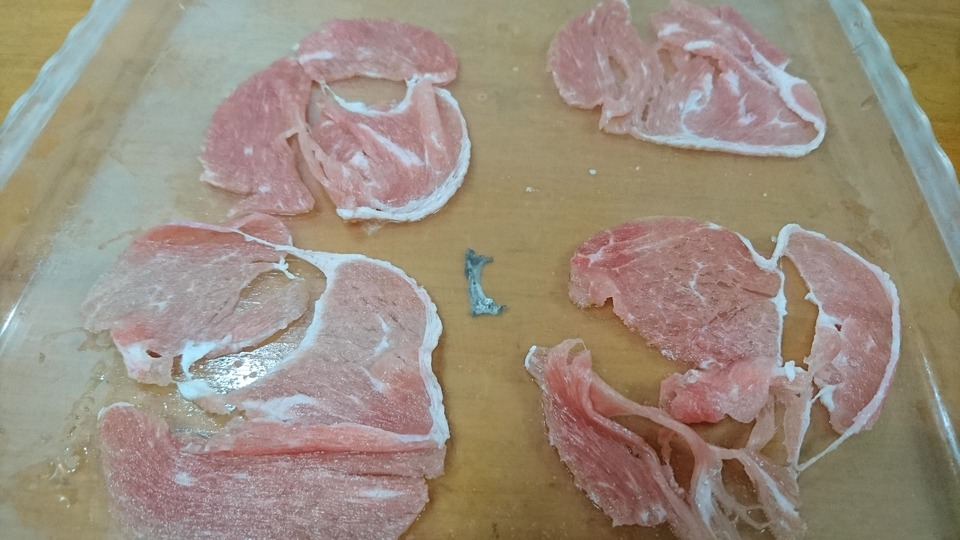restructured meat: (68, 217, 460, 537), (538, 217, 885, 540), (196, 23, 504, 232), (545, 6, 849, 175)
